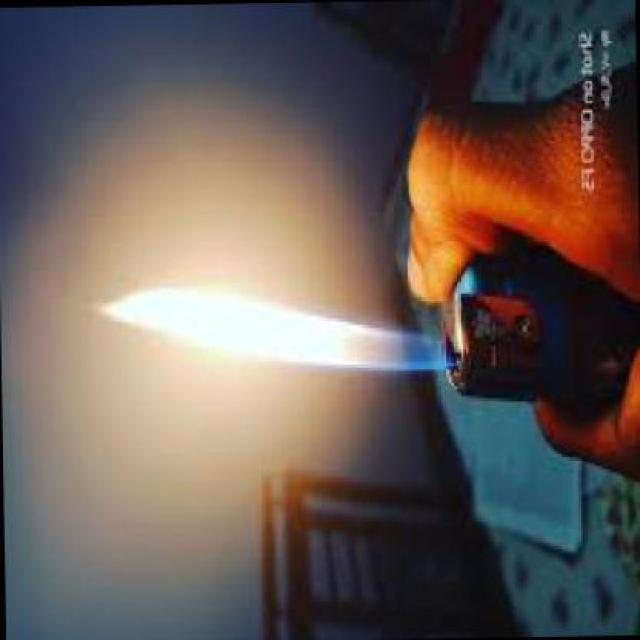Fire: (95, 270, 450, 385)
